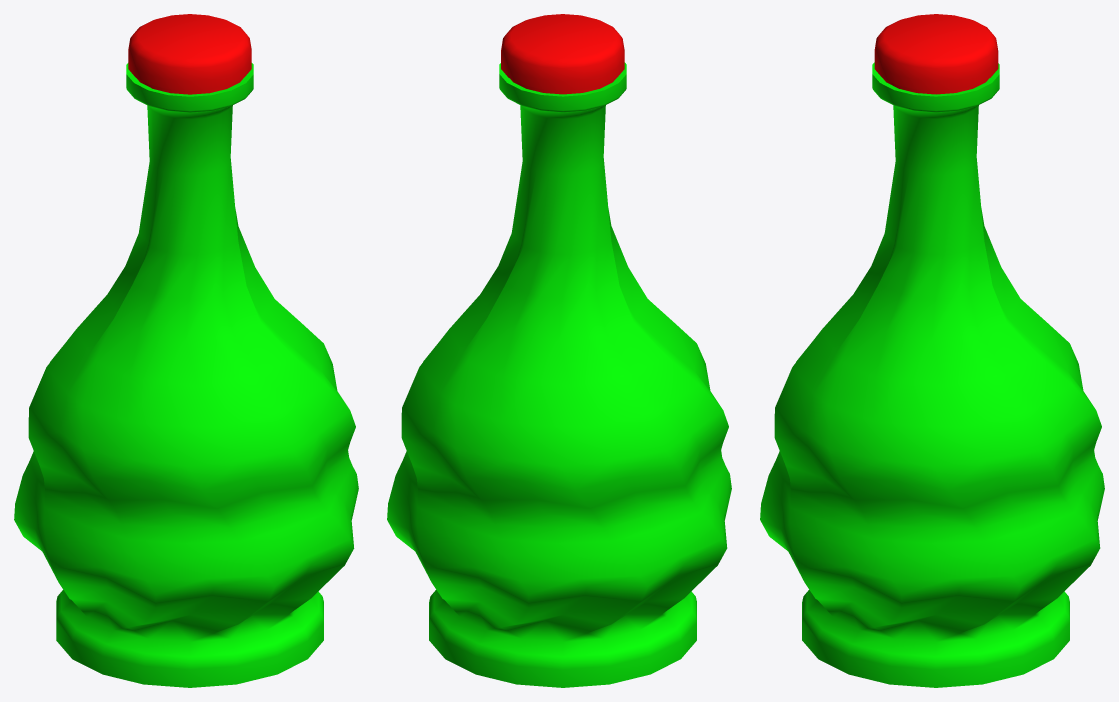
Rendered from Potion_02.FBX.
3 renders of one model, left to right at view 1: azimuth 30°, elevation 25°; view 2: azimuth 150°, elevation 25°; view 3: azimuth 270°, elevation 25°, orthographic.
Visible parts, largest first — view 1: Potion02; view 2: Potion02; view 3: Potion02.
Boxes of the visible parts, <box> form: Potion02: <box>14,14,358,687</box>; Potion02: <box>387,14,731,687</box>; Potion02: <box>760,14,1104,687</box>.
Size of the model in its own units: 69.81 by 69.33 by 132.
